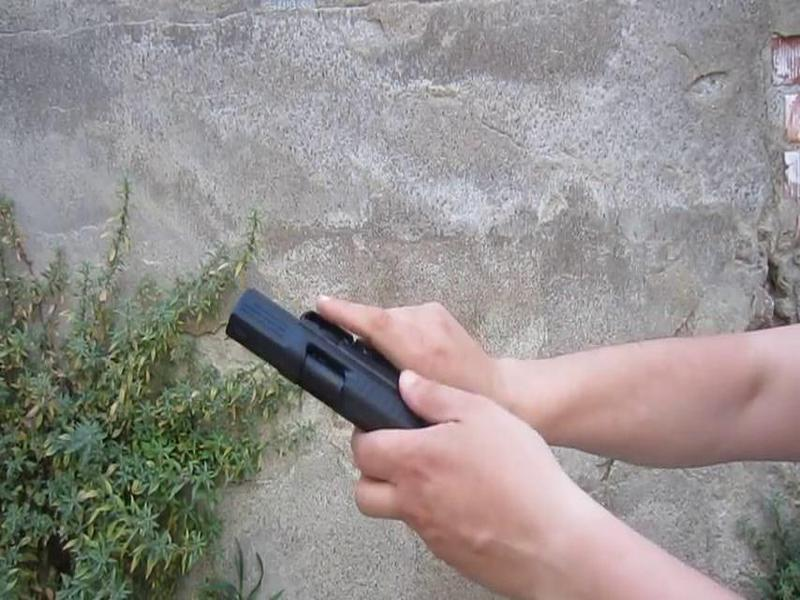Pistola: (220, 268, 459, 470)
